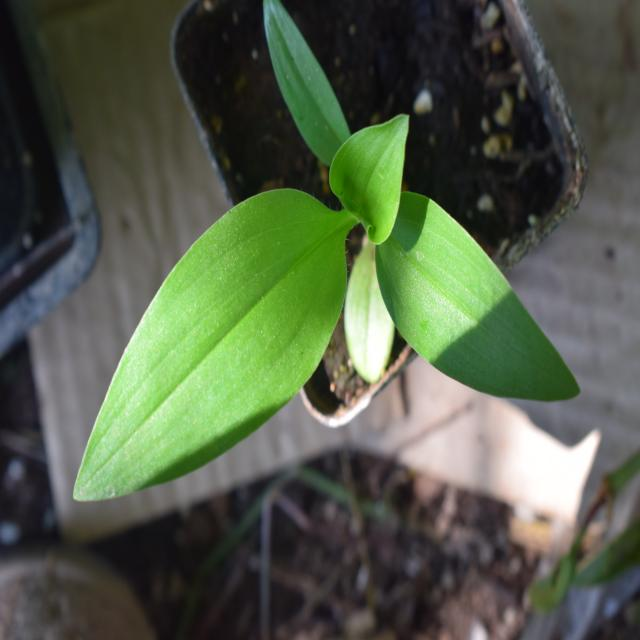Common Dayflower: (40, 68, 561, 494)
